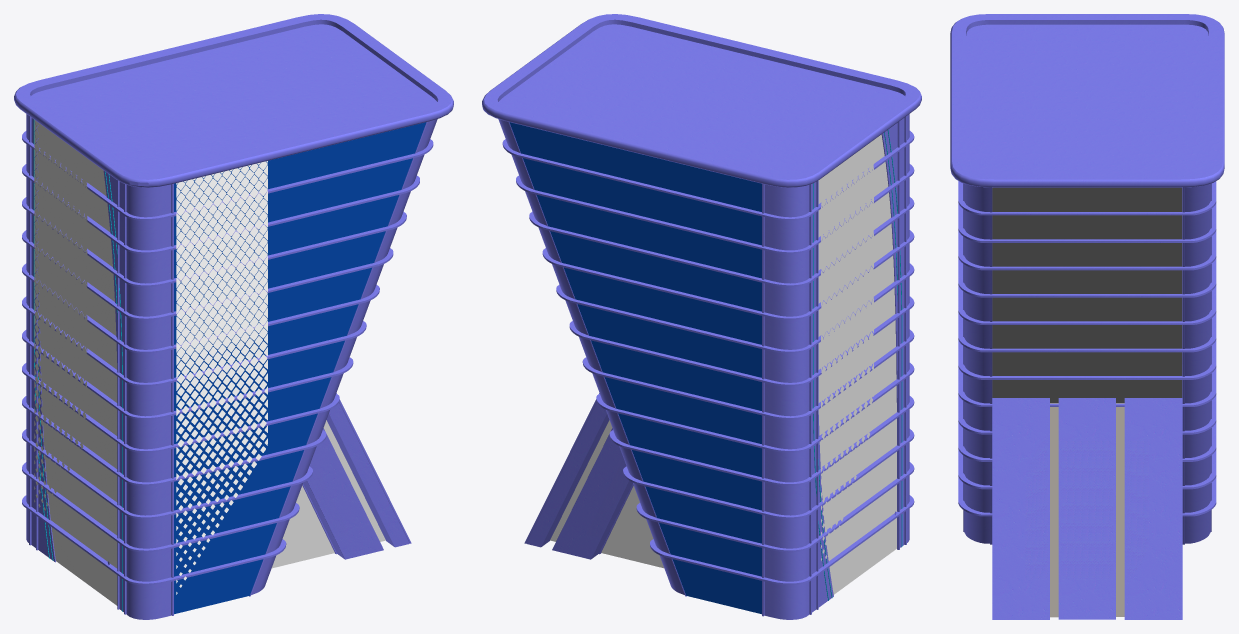
Rendered from Building_003_2st_L0.fbx.
3 renders of one model, left to right at view 1: azimuth 30°, elevation 25°; view 2: azimuth 150°, elevation 25°; view 3: azimuth 270°, elevation 25°, orthographic. The views are drawn at different scales.
Visible parts, largest first — view 1: Building_003_2st_L0; view 2: Building_003_2st_L0; view 3: Building_003_2st_L0.
Part boxes in pixels (x1,y1,x2,y2): Building_003_2st_L0: (14,14,453,619); Building_003_2st_L0: (482,14,921,619); Building_003_2st_L0: (950,14,1224,619).
Size of the model in its own units: 50.91 by 65.34 by 35.35.
6 materials, 3 textured.
